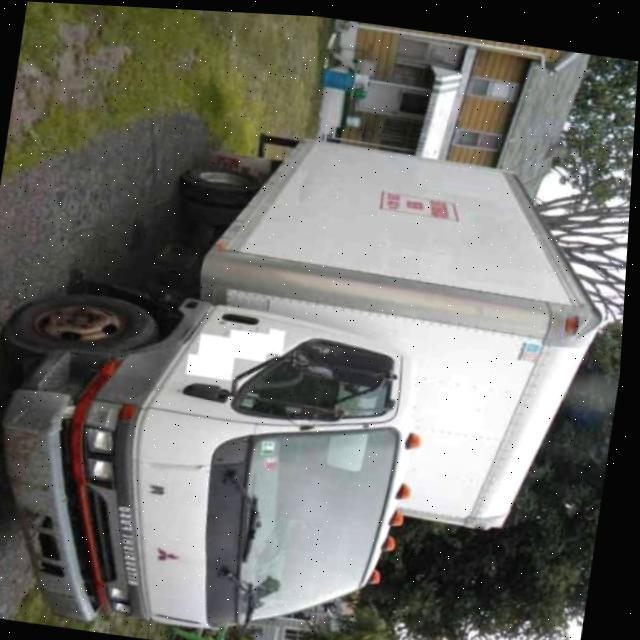truck: (0, 98, 624, 640)
